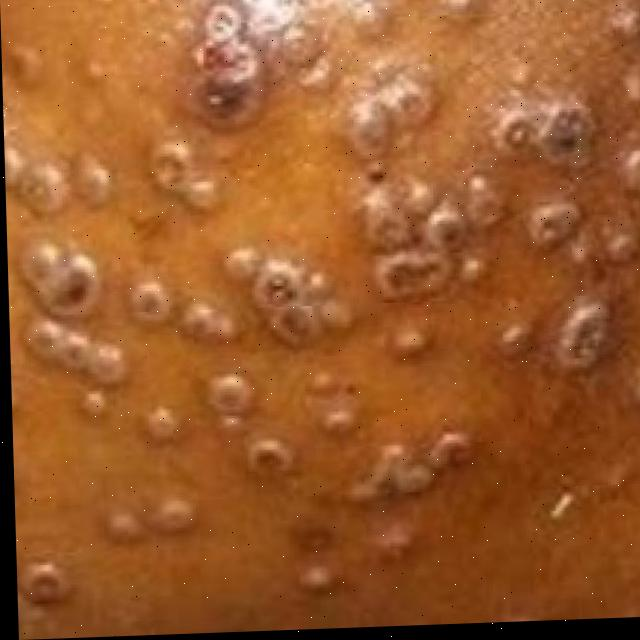Eczema: (1, 4, 593, 640)
